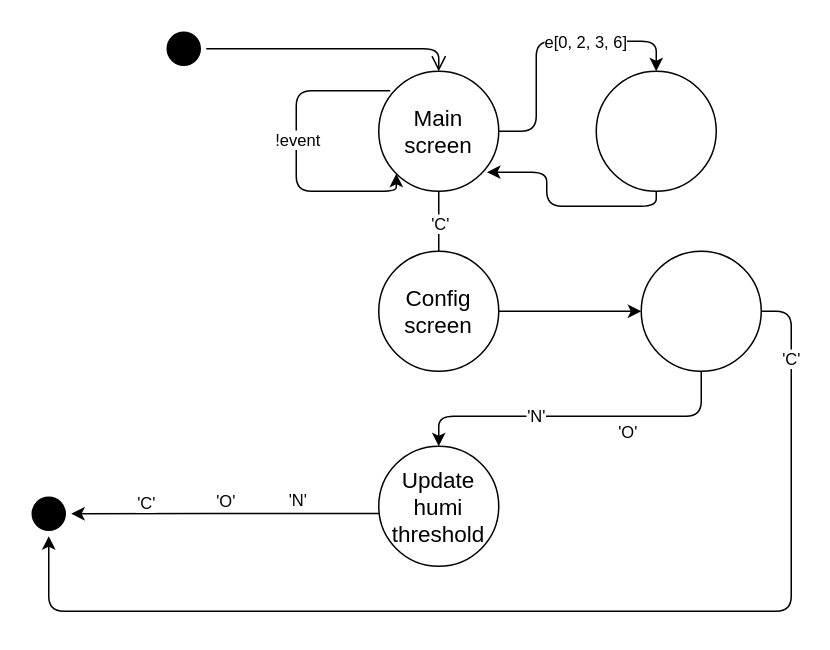
The diagram is 830 pixels wide and 650 high, and some of its shapes have lost their labels. The box of each missing label's shape, as (x1, y1, x2, y2) in pixels:
Update main: (595, 70, 716, 191)
Update temp threshold: (640, 250, 761, 371)
